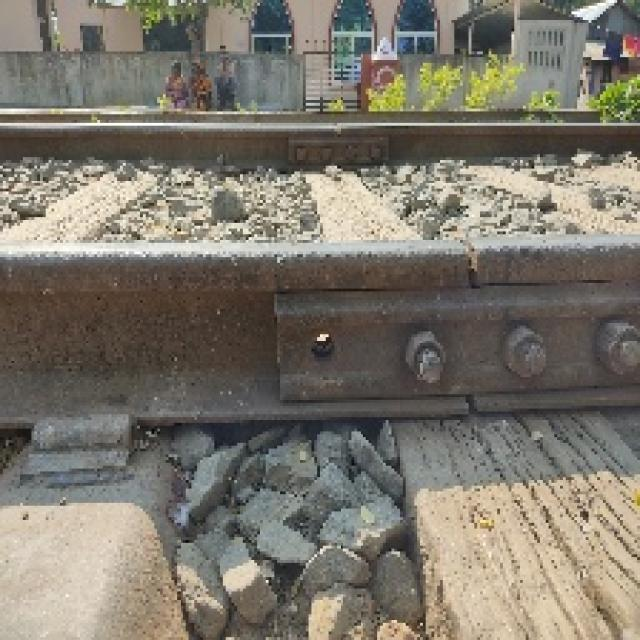Defective Joint: (274, 283, 637, 397)
Missing Fastener: (11, 411, 134, 477)
